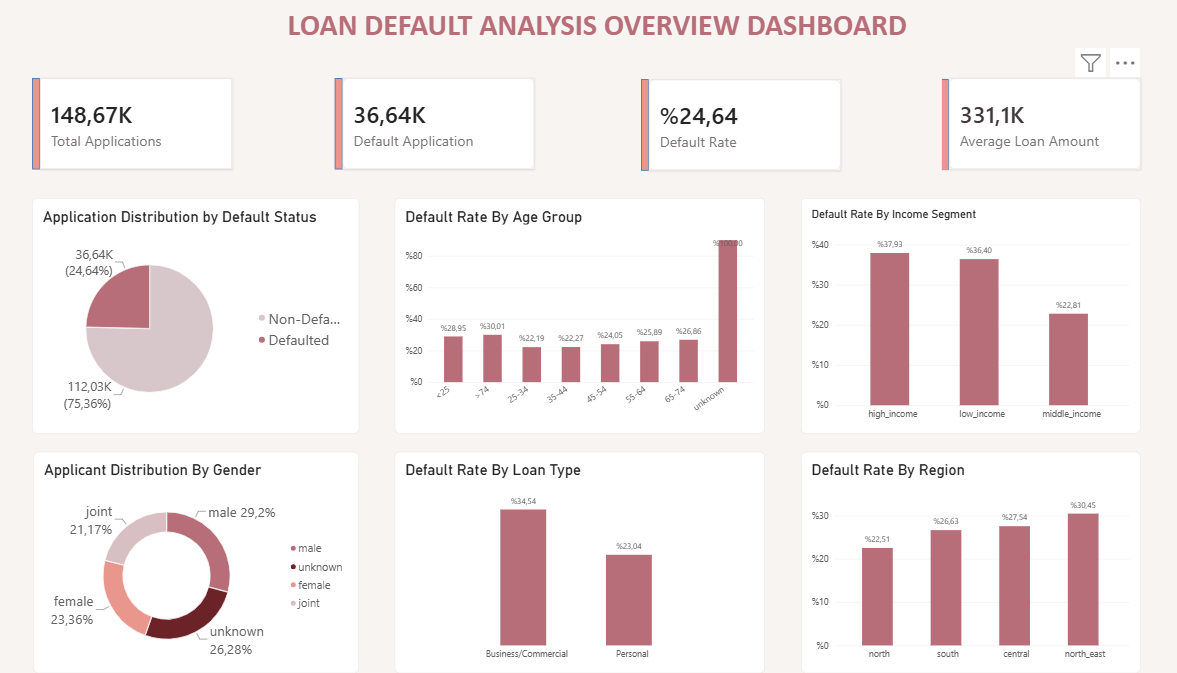

This screenshot's page, from the dashboard's own definition file:
{"tool":"powerbi","page":{"name":"Page 1","canvas":[1920,1080],"ordinal":0},"visuals":[{"type":"textbox","box":[399.3,14.4,1123.8,90.6],"z":0},{"type":"cardVisual","fields":{"Data":["gold fact_loan_application.total_application"]},"box":[70.2,128.5,308.7,146.1],"z":1,"group":"g4"},{"type":"cardVisual","fields":{"Data":["gold fact_loan_application.default_applications"]},"box":[553.4,128.5,308,146.1],"z":2,"group":"g2"},{"type":"cardVisual","fields":{"Data":["gold dim_application.default_rate"]},"box":[1043.8,130.3,308,146.1],"z":3,"group":"g1"},{"type":"cardVisual","fields":{"Data":["gold fact_loan_application.avg_loan_amount"]},"box":[1523.4,128.5,308,146.1],"z":4,"group":"g3"},{"type":"shape","box":[57.9,128.5,12.3,146.1],"z":8,"group":"g4"},{"type":"shape","box":[1511.1,130.6,12.3,146.1],"z":9,"group":"g3"},{"type":"shape","box":[541.1,128.5,12.3,146.1],"z":10,"group":"g2"},{"type":"shape","box":[1031.5,130.3,12.3,146.1],"z":11,"group":"g1"},{"type":"pieChart","title":"Application Distribution by Default Status","fields":{"Category":["gold fact_loan_application.default_status"],"Y":["CountNonNull(gold fact_loan_application.is_default)"]},"box":[57.9,320.3,523,376.4],"z":1000},{"type":"columnChart","title":"Default Rate By Loan Type","fields":{"Category":["gold dim_loan.business_or_commercial"],"Y":["gold dim_application.default_rate"]},"box":[637,725.7,591.8,354.7],"z":2000},{"type":"group","id":"g1","title":"Group 1","box":[1031.5,130.3,322.1,146.6],"z":3000},{"type":"group","id":"g2","title":"Group 2","box":[541.1,128.5,320.3,146.6],"z":4000},{"type":"group","id":"g3","title":"Group 3","box":[1511.1,128.5,320.3,148.4],"z":5000},{"type":"group","id":"g4","title":"Group 4","box":[57.9,128.5,320.3,146.6],"z":6000},{"type":"donutChart","title":"Applicant Distribution By Gender","fields":{"Category":["gold dim_customer.gender"],"Y":["gold fact_loan_application.distinct_total_customer"]},"box":[59.7,725.7,521.2,354.7],"z":7000},{"type":"clusteredColumnChart","title":"Default Rate By Region","fields":{"Category":["gold dim_property.region"],"Y":["gold dim_application.default_rate"]},"box":[1288.5,725.7,542.9,354.7],"z":8000},{"type":"clusteredColumnChart","title":"Default Rate By Age Group","fields":{"Category":["gold dim_customer.age (groups)"],"Y":["gold dim_application.default_rate"]},"box":[637,320.3,591.8,376.4],"z":9000},{"type":"clusteredColumnChart","title":"Default Rate By Income Segment","fields":{"Category":["gold dim_customer.income_segment"],"Y":["gold dim_application.default_rate"]},"box":[1288.5,320.3,542.9,376.4],"z":10000}]}

Visuals, with their boxes in screenshot pixels (x1, y1, x2, y2), scaled from the page's 1920x1080 canvas onto the 1177x673 screenshot:
textbox: (left=245, top=9, right=934, bottom=65)
cardVisual - gold fact_loan_application.total_application: (left=43, top=80, right=232, bottom=171)
cardVisual - gold fact_loan_application.default_applications: (left=339, top=80, right=528, bottom=171)
cardVisual - gold dim_application.default_rate: (left=640, top=81, right=829, bottom=172)
cardVisual - gold fact_loan_application.avg_loan_amount: (left=934, top=80, right=1123, bottom=171)
shape: (left=35, top=80, right=43, bottom=171)
shape: (left=926, top=81, right=934, bottom=172)
shape: (left=332, top=80, right=339, bottom=171)
shape: (left=632, top=81, right=640, bottom=172)
"Application Distribution by Default Status" pieChart: (left=35, top=200, right=356, bottom=434)
"Default Rate By Loan Type" columnChart: (left=390, top=452, right=753, bottom=672)
"Group 1" group: (left=632, top=81, right=830, bottom=173)
"Group 2" group: (left=332, top=80, right=528, bottom=171)
"Group 3" group: (left=926, top=80, right=1123, bottom=173)
"Group 4" group: (left=35, top=80, right=232, bottom=171)
"Applicant Distribution By Gender" donutChart: (left=37, top=452, right=356, bottom=672)
"Default Rate By Region" clusteredColumnChart: (left=790, top=452, right=1123, bottom=672)
"Default Rate By Age Group" clusteredColumnChart: (left=390, top=200, right=753, bottom=434)
"Default Rate By Income Segment" clusteredColumnChart: (left=790, top=200, right=1123, bottom=434)
